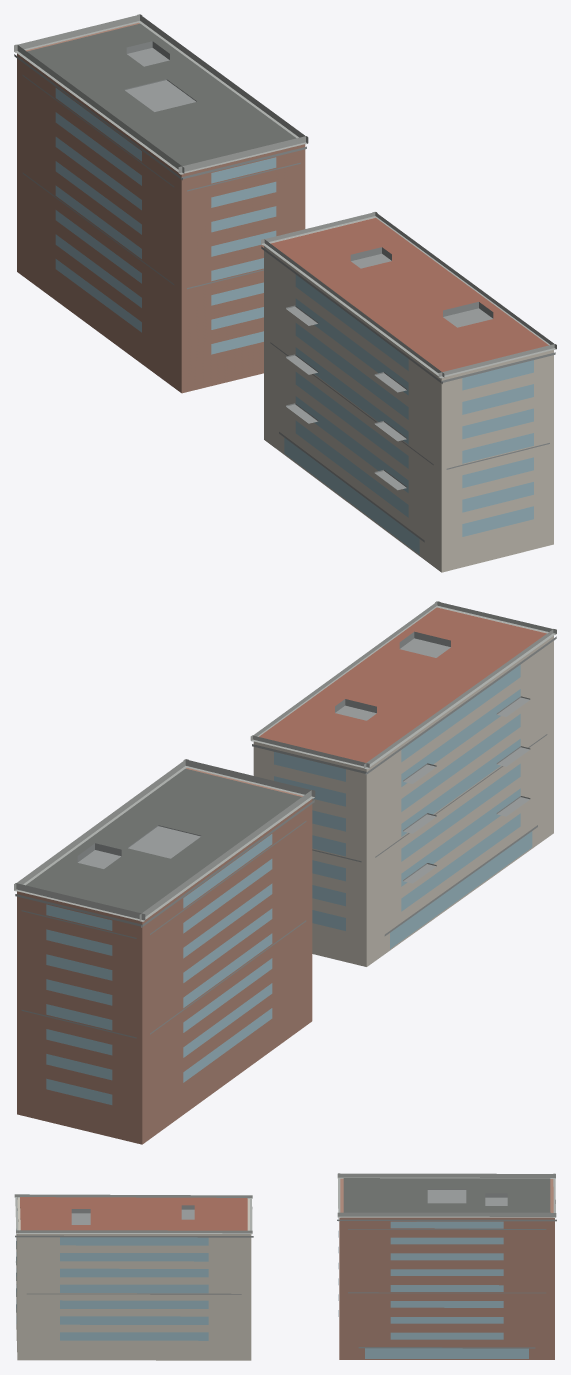
Rendered from tile-p003-m002.glb.
3 views of the same model, one above another, from view 1: azimuth 30°, elevation 25°; view 2: azimuth 150°, elevation 25°; view 3: azimuth 270°, elevation 25° (orthographic). The views are drawn at different scales.
Visible parts, largest first — view 1: building-1217-mesh-7, building-1213-mesh-0, building-1213-mesh-1, building-1213-mesh-4, building-1217-mesh-10, building-1217-mesh-8, building-1217-mesh-11, building-1213-mesh-5, building-1217-mesh-12, building-1217-mesh-9, building-1213-mesh-2, building-1213-mesh-3 (+1 smaller); view 2: building-1217-mesh-7, building-1213-mesh-0, building-1213-mesh-4, building-1213-mesh-1, building-1217-mesh-10, building-1217-mesh-8, building-1217-mesh-11, building-1213-mesh-5, building-1217-mesh-12, building-1217-mesh-9, building-1213-mesh-3, building-1213-mesh-2 (+1 smaller); view 3: building-1217-mesh-7, building-1213-mesh-0, building-1213-mesh-1, building-1217-mesh-8, building-1213-mesh-4, building-1217-mesh-10, building-1217-mesh-11, building-1213-mesh-5, building-1217-mesh-9, building-1213-mesh-2, building-1217-mesh-12, building-1213-mesh-6.
Boxes of the visible parts, x1,y1,x2,y2 form: building-1217-mesh-7: [17, 22, 305, 393]; building-1213-mesh-0: [264, 218, 553, 572]; building-1213-mesh-1: [284, 274, 533, 554]; building-1213-mesh-4: [271, 218, 548, 371]; building-1217-mesh-10: [27, 23, 296, 166]; building-1217-mesh-8: [55, 88, 276, 354]; building-1217-mesh-11: [14, 14, 308, 174]; building-1213-mesh-5: [261, 212, 556, 378]; building-1217-mesh-12: [124, 41, 196, 111]; building-1217-mesh-9: [14, 54, 306, 289]; building-1213-mesh-2: [261, 246, 555, 542]; building-1213-mesh-3: [286, 305, 406, 490]; building-1217-mesh-7: [17, 768, 312, 1144]; building-1213-mesh-0: [253, 607, 553, 966]; building-1213-mesh-4: [259, 607, 546, 762]; building-1213-mesh-1: [274, 665, 532, 948]; building-1217-mesh-10: [26, 768, 301, 913]; building-1217-mesh-8: [46, 834, 272, 1104]; building-1217-mesh-11: [14, 759, 315, 921]; building-1213-mesh-5: [250, 601, 556, 769]; building-1217-mesh-12: [77, 825, 201, 868]; building-1217-mesh-9: [15, 800, 314, 1038]; building-1213-mesh-3: [403, 696, 530, 883]; building-1213-mesh-2: [252, 636, 556, 936]; building-1217-mesh-7: [339, 1178, 554, 1359]; building-1213-mesh-0: [16, 1198, 251, 1360]; building-1213-mesh-1: [16, 1229, 208, 1340]; building-1217-mesh-8: [338, 1218, 528, 1358]; building-1213-mesh-4: [20, 1197, 247, 1230]; building-1217-mesh-10: [343, 1178, 550, 1212]; building-1217-mesh-11: [337, 1173, 556, 1217]; building-1213-mesh-5: [14, 1194, 252, 1234]; building-1217-mesh-9: [337, 1219, 556, 1348]; building-1213-mesh-2: [15, 1235, 253, 1294]; building-1217-mesh-12: [427, 1189, 507, 1205]; building-1213-mesh-6: [71, 1205, 194, 1224].
Bounding box in the file's own units: 18.58 × 31.9 × 104.
